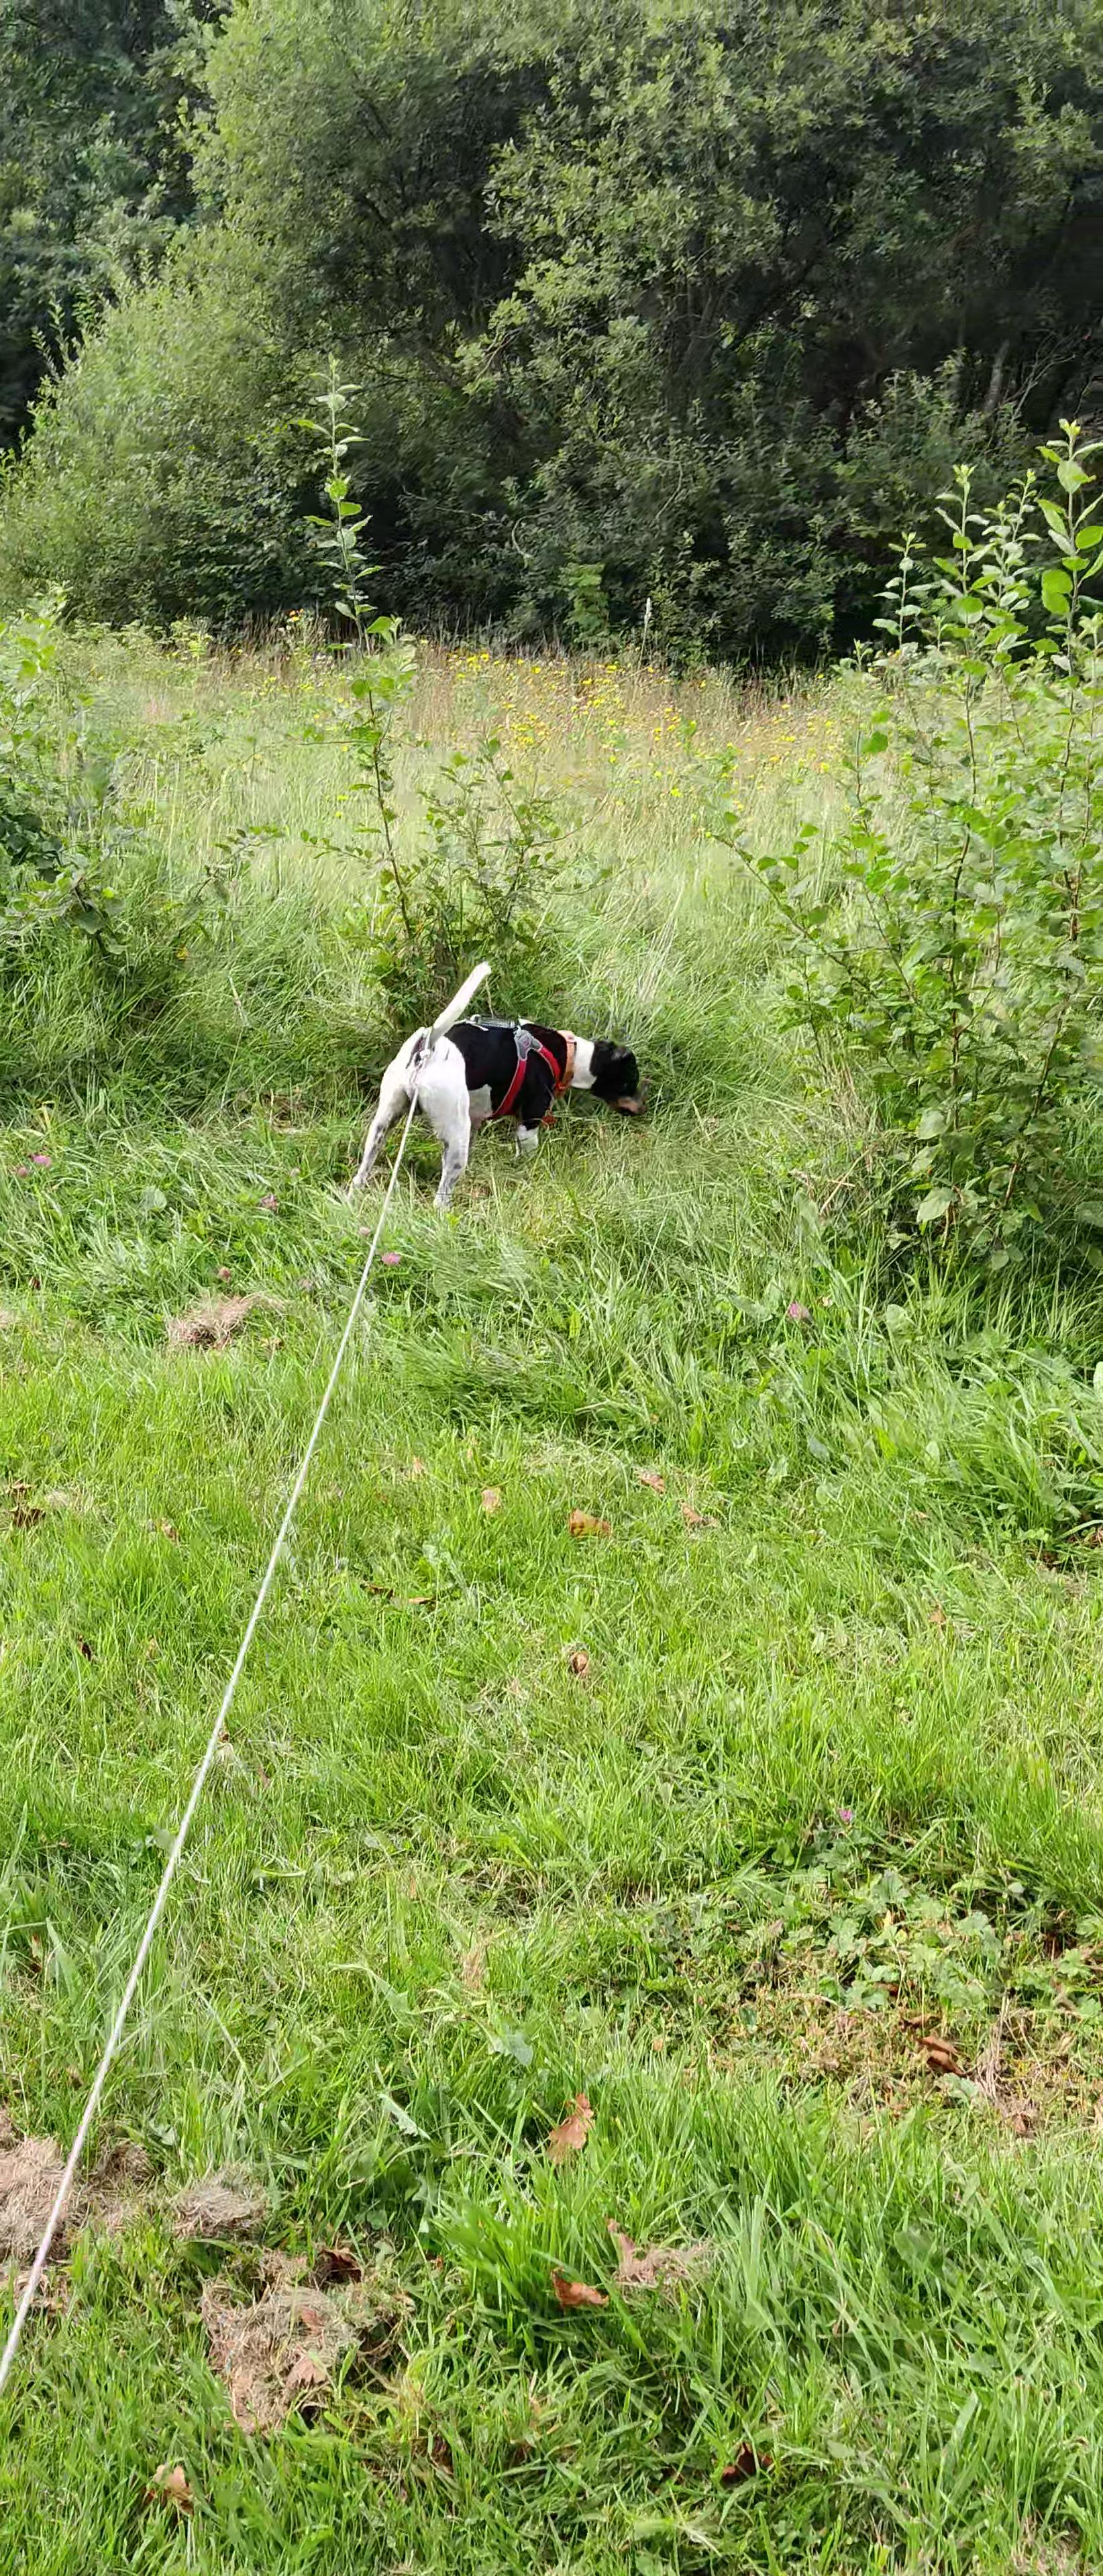Dog: (344, 954, 651, 1214)
